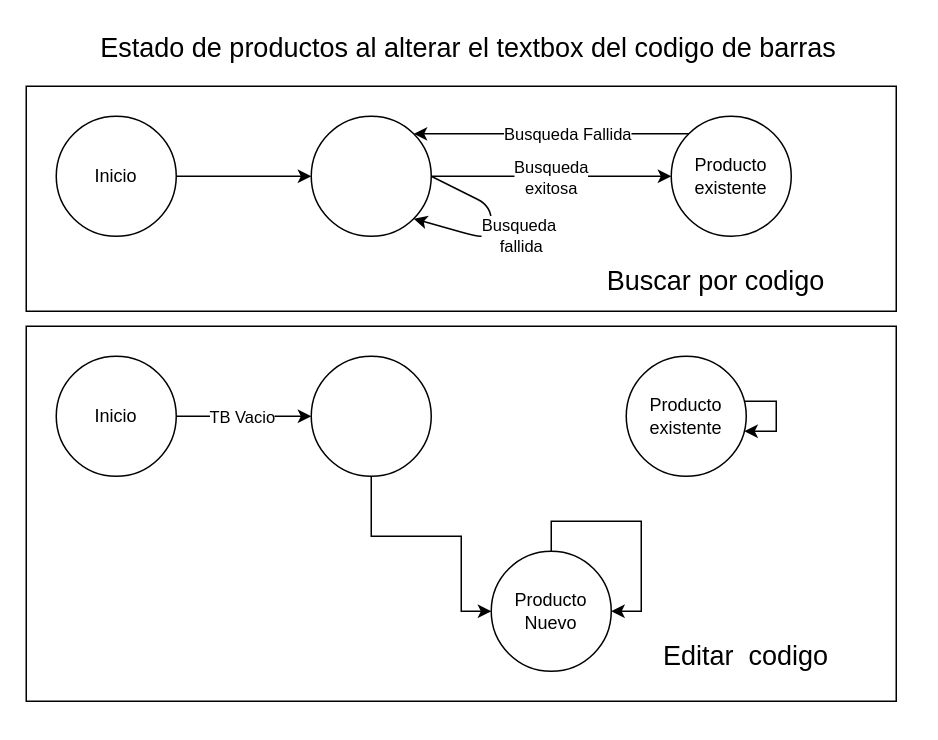
Some shapes in this 938 by 740 pixel diagram are drawn without their labels. The shapes that lost their labels are listed below. From the top down, each one's centre as x and y in pixels, then its label:
point (370, 175): Sin producto/ Producto nuevo
point (370, 415): Sin producto
